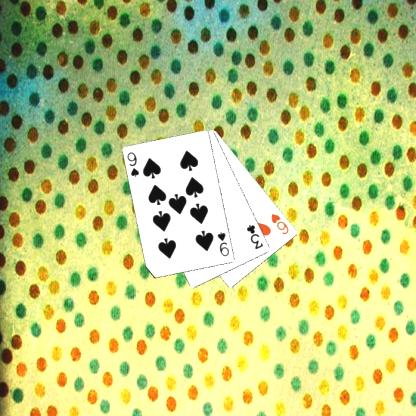3C: (244, 222, 264, 251)
6H: (269, 211, 290, 236)
9S: (215, 230, 231, 258), (124, 150, 140, 178)
